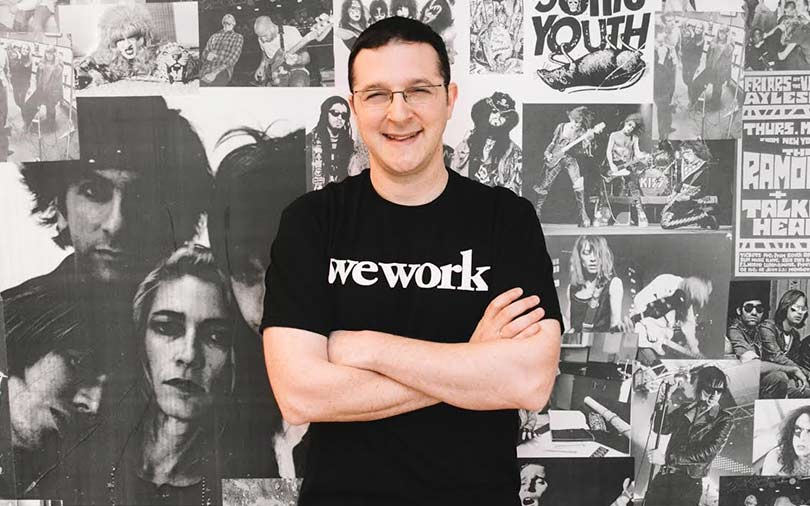wework: (325, 248, 491, 296)
